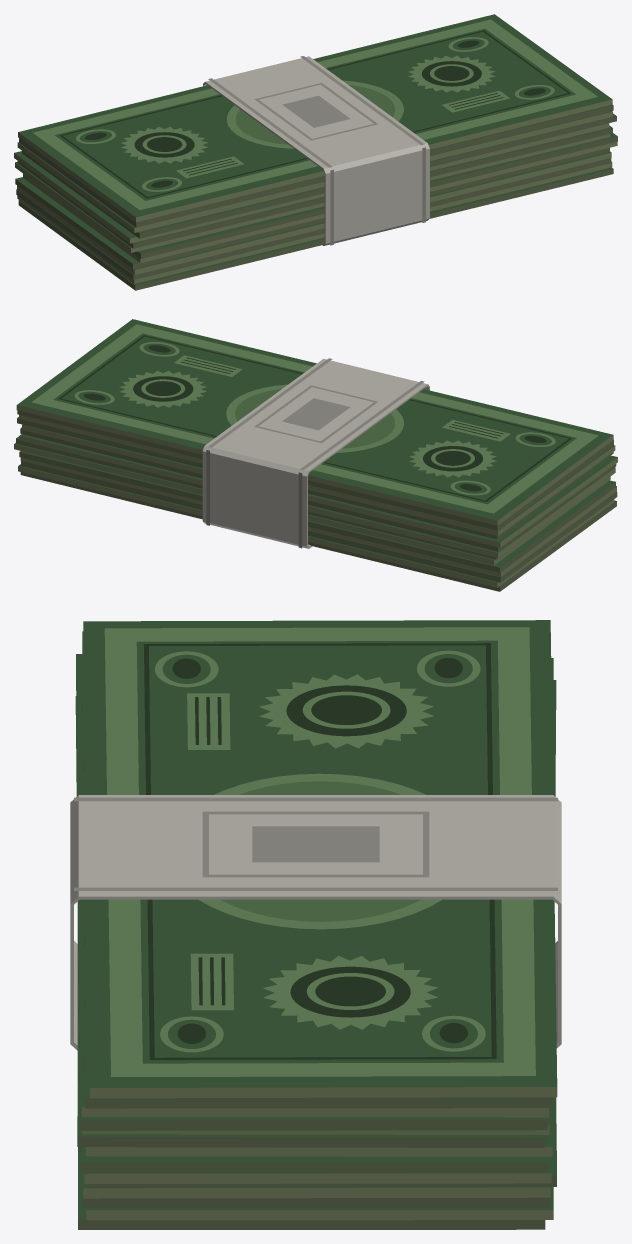
The model's file is model-5321cfcbeac1.glb.
3 renders of one model, top to bottom at view 1: azimuth 30°, elevation 25°; view 2: azimuth 150°, elevation 25°; view 3: azimuth 270°, elevation 25°, orthographic. The views are drawn at different scales.
Parts seen in each view (by area): view 1: notes_layer_14, paper_band, print_border, notes_layer_1, notes_layer_4, notes_layer_5, notes_layer_12, notes_layer_13, notes_layer_7, notes_layer_10, notes_layer_11, notes_layer_9 (+17 smaller); view 2: notes_layer_14, paper_band, print_border, notes_layer_10, notes_layer_5, notes_layer_8, notes_layer_6, notes_layer_2, notes_layer_3, notes_layer_12, notes_layer_13, notes_layer_4 (+17 smaller); view 3: notes_layer_14, paper_band, print_border, notes_layer_11, notes_layer_7, notes_layer_9, notes_layer_13, notes_layer_2, notes_layer_6, print_border_rule, notes_layer_1, notes_layer_4 (+19 smaller).
Part boxes in pixels (x1,y1,x2,y2): notes_layer_14: (18,14,612,222); paper_band: (203,56,429,245); print_border: (33,19,597,209); notes_layer_1: (18,167,613,290); notes_layer_4: (17,151,611,274); notes_layer_5: (15,148,609,268); notes_layer_12: (17,111,612,232); notes_layer_13: (19,104,613,227); notes_layer_7: (24,133,617,258); notes_layer_10: (14,123,609,243); notes_layer_11: (22,113,616,238); notes_layer_9: (17,125,612,248); notes_layer_14: (16,319,613,525); paper_band: (202,358,429,548); print_border: (31,324,598,513); notes_layer_10: (22,424,617,547); notes_layer_5: (19,451,615,572); notes_layer_8: (19,434,615,557); notes_layer_6: (14,443,610,565); notes_layer_2: (18,464,614,587); notes_layer_3: (21,461,617,582); notes_layer_12: (19,414,615,536); notes_layer_13: (17,410,613,530); notes_layer_4: (20,457,616,576); notes_layer_14: (83,620,557,1098); paper_band: (70,795,561,1050); print_border: (104,627,535,1076); notes_layer_11: (76,654,547,1130); notes_layer_7: (75,696,547,1172); notes_layer_9: (77,1012,544,1147); notes_layer_13: (82,631,552,1108); notes_layer_2: (86,1187,553,1220); notes_layer_6: (84,1157,551,1183); print_border_rule: (144,643,496,1059); notes_layer_1: (77,917,545,1229); notes_layer_4: (83,1173,550,1198).
Size of the model in its own units: 0.1589 by 0.0244 by 0.0698.
